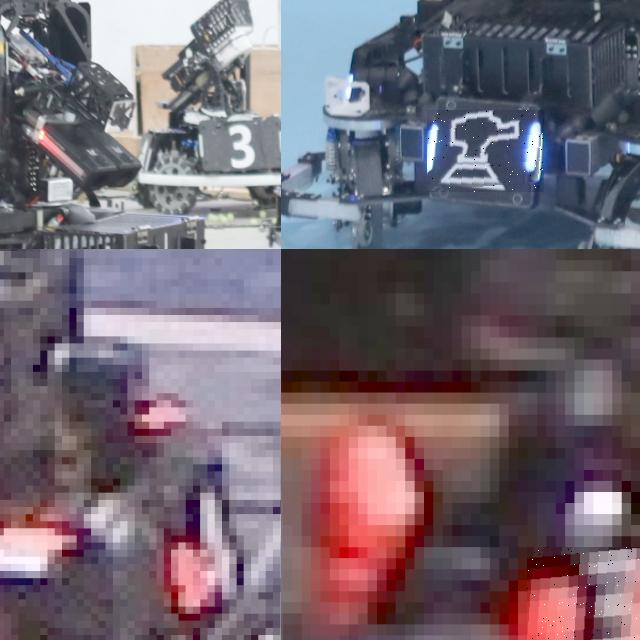Bs: (427, 110, 544, 192)
R3: (527, 547, 640, 640)
